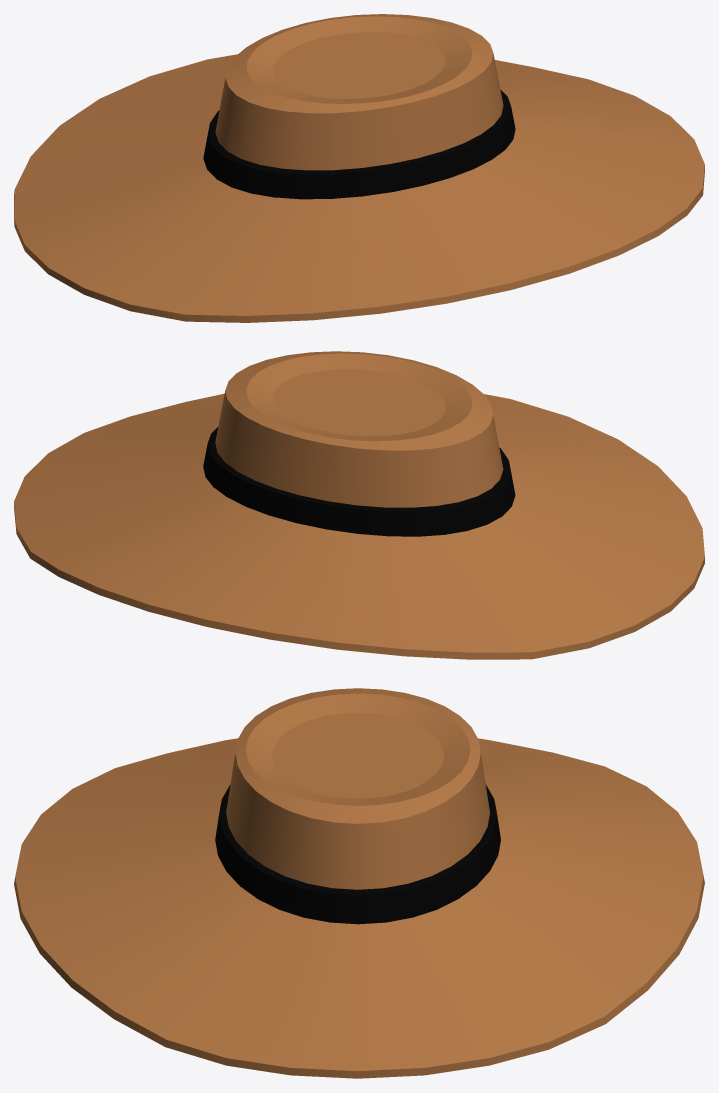
Rendered from hoed.fbx.
3 views of the same model, one above another, from view 1: azimuth 30°, elevation 25°; view 2: azimuth 150°, elevation 25°; view 3: azimuth 270°, elevation 25° (orthographic). The views are drawn at different scales.
Visible parts, largest first — view 1: Cylinder; view 2: Cylinder; view 3: Cylinder.
Part boxes in pixels (left/top/right/bottom): Cylinder: left=14, top=14, right=704, bottom=322; Cylinder: left=14, top=351, right=704, bottom=659; Cylinder: left=14, top=688, right=704, bottom=1078.
Size of the model in its own units: 470 by 100 by 399.
